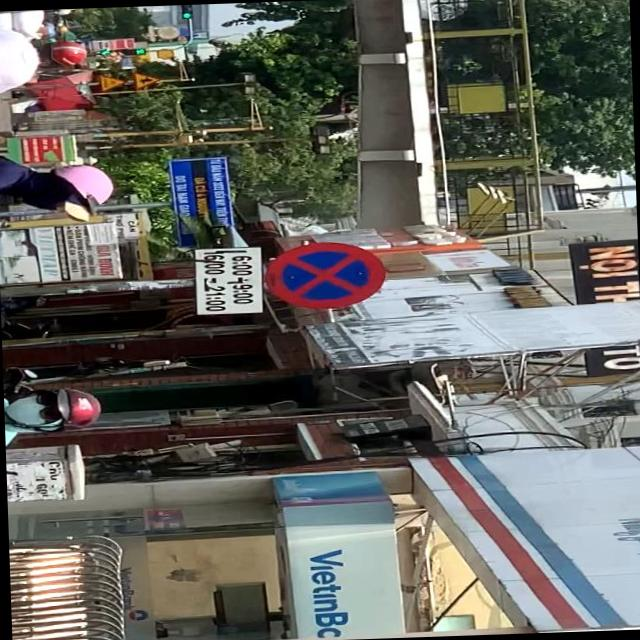P-130: (266, 239, 386, 311)
